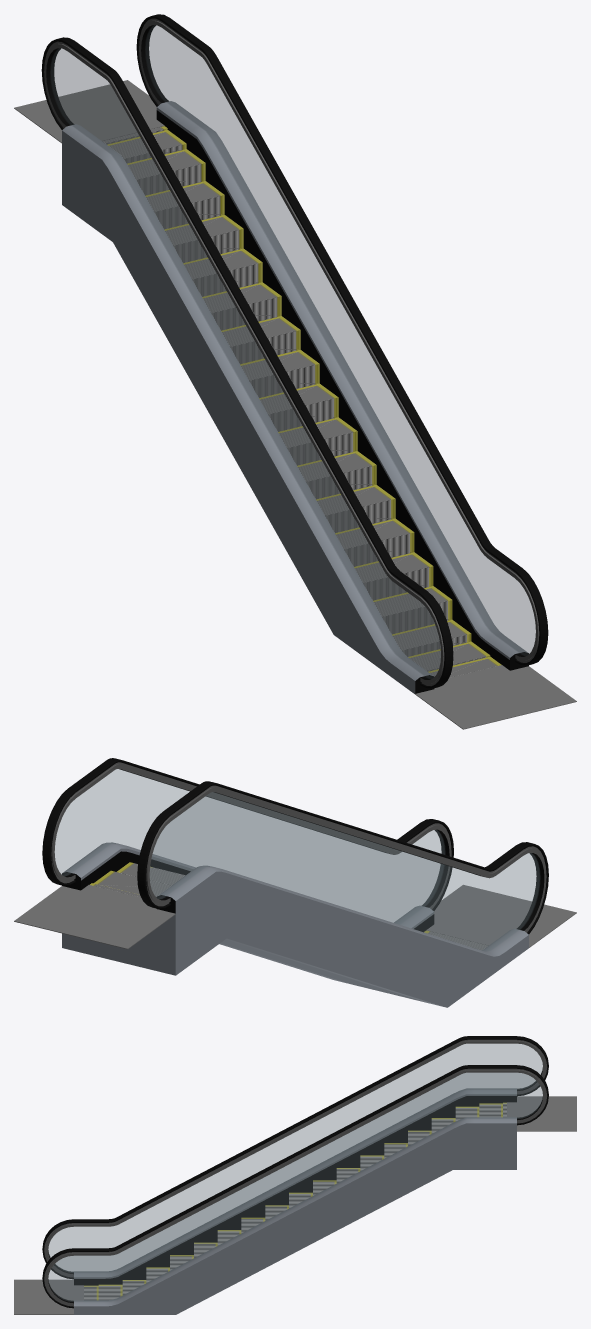
Rendered from escalator.obj.
3 renders of one model, top to bottom at view 1: azimuth 30°, elevation 25°; view 2: azimuth 150°, elevation 25°; view 3: azimuth 270°, elevation 25°, orthographic. The views are drawn at different scales.
Parts seen in each view (by area): view 1: basehandrail_Plane.001, glass_Cube, Cube.001_Cube.003, handrail_CUBezierCircle.001, metalicCover_Cube.002, MetalicCover_Cube.005; view 2: glass_Cube, basehandrail_Plane.001, handrail_CUBezierCircle.001, MetalicCover_Cube.005, metalicCover_Cube.002, lowCover_Plane.010, Cube.001_Cube.003; view 3: glass_Cube, basehandrail_Plane.001, handrail_CUBezierCircle.001, Cube.001_Cube.003, MetalicCover_Cube.005, metalicCover_Cube.002.
Boxes of the visible parts, left/top/right/bottom form: basehandrail_Plane.001: left=62, top=101, right=528, bottom=694; glass_Cube: left=50, top=25, right=535, bottom=678; Cube.001_Cube.003: left=103, top=126, right=501, bottom=677; handrail_CUBezierCircle.001: left=41, top=14, right=548, bottom=688; metalicCover_Cube.002: left=415, top=665, right=576, bottom=729; MetalicCover_Cube.005: left=14, top=80, right=164, bottom=143; glass_Cube: left=55, top=769, right=539, bottom=951; basehandrail_Plane.001: left=62, top=842, right=528, bottom=1007; handrail_CUBezierCircle.001: left=42, top=758, right=548, bottom=934; MetalicCover_Cube.005: left=14, top=885, right=175, bottom=949; metalicCover_Cube.002: left=426, top=885, right=576, bottom=947; lowCover_Plane.010: left=81, top=928, right=425, bottom=1002; Cube.001_Cube.003: left=90, top=862, right=487, bottom=950; glass_Cube: left=48, top=1044, right=542, bottom=1301; basehandrail_Plane.001: left=74, top=1088, right=516, bottom=1314; handrail_CUBezierCircle.001: left=42, top=1036, right=548, bottom=1308; Cube.001_Cube.003: left=84, top=1102, right=506, bottom=1300; MetalicCover_Cube.005: left=507, top=1096, right=576, bottom=1131; metalicCover_Cube.002: left=14, top=1279, right=83, bottom=1314.
Bounding box in the file's own units: 129 × 425 × 882.
Materials: 7 (1 with a texture image).
